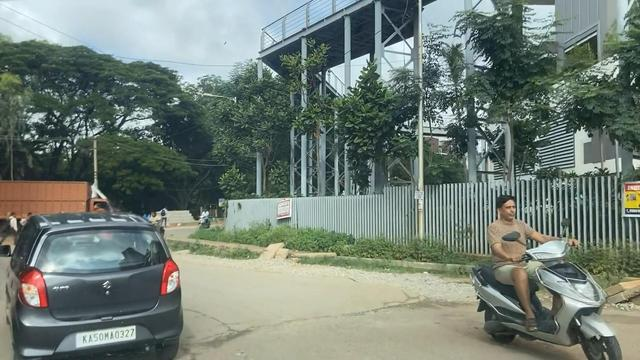LMV: (8, 215, 179, 360), (481, 201, 623, 360)
RoadDamages: (197, 290, 423, 347)
